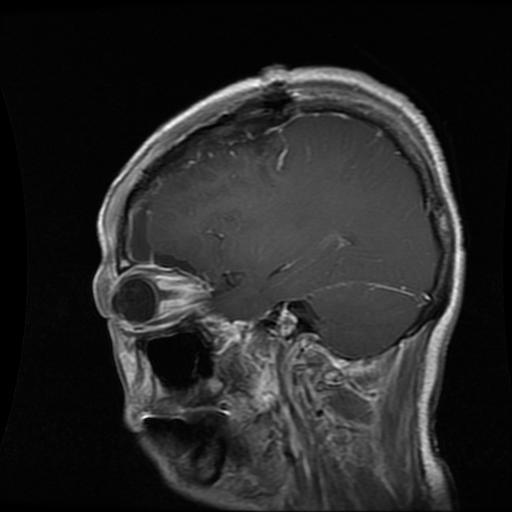Gliomia_tumour: (223, 122, 290, 152)
